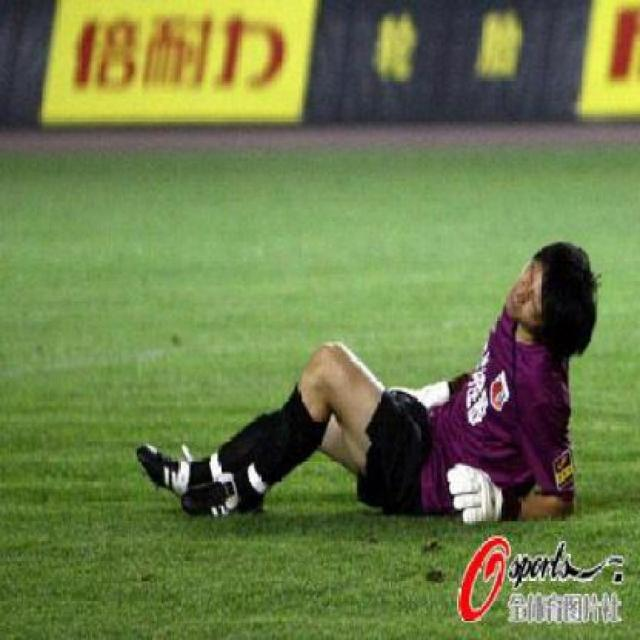fall: (126, 220, 599, 534)
